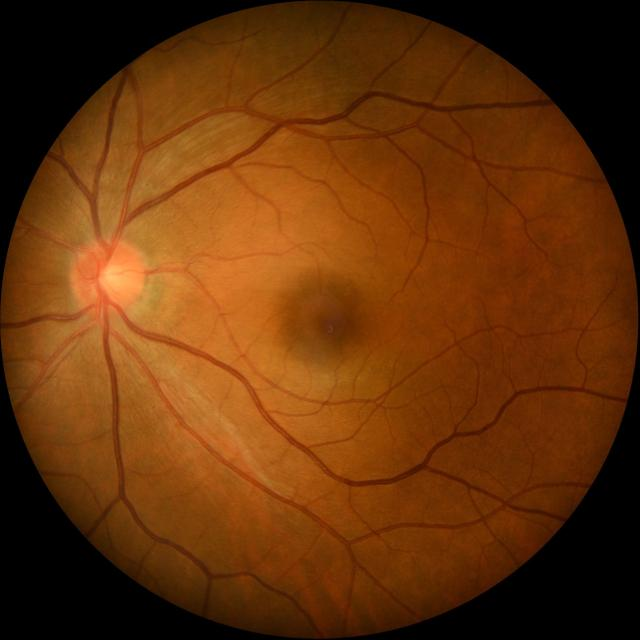OC: (96, 265, 124, 295)
OD: (72, 238, 144, 311)
